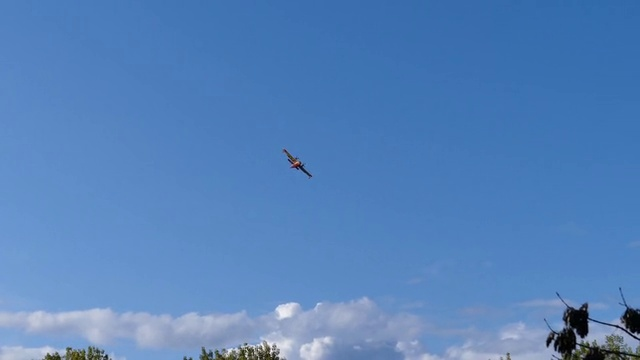plane: (281, 148, 311, 179)
